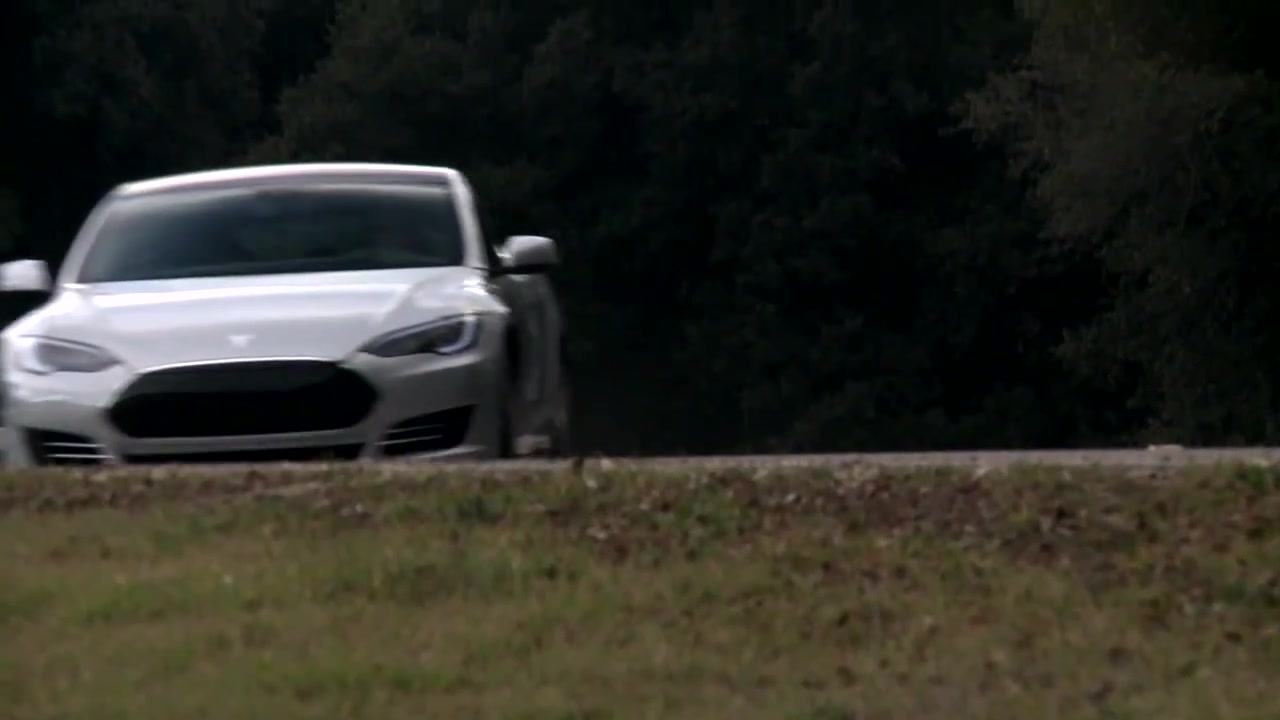car: (4, 156, 577, 464)
